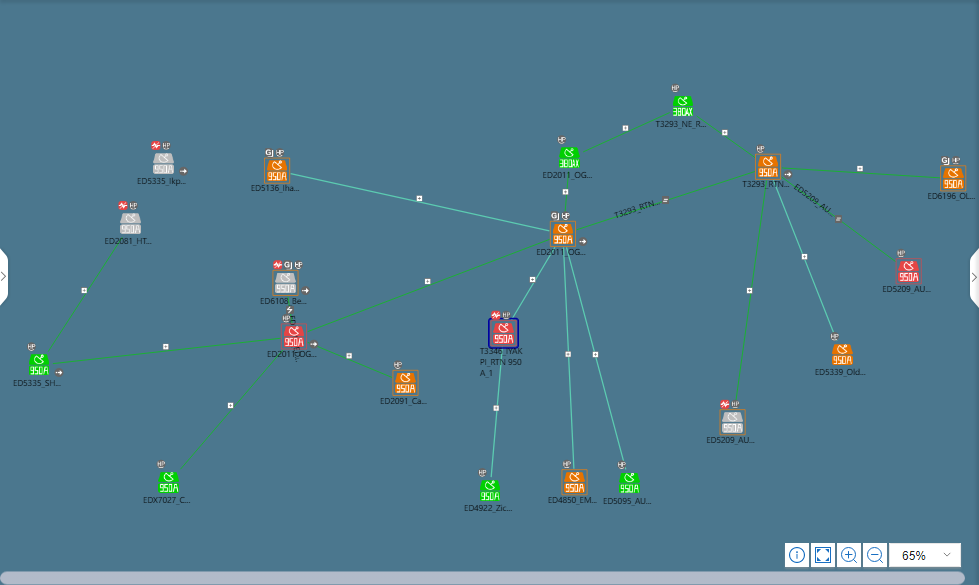Link_Blue: (303, 173, 552, 230), (566, 260, 632, 471), (774, 190, 840, 343), (560, 257, 577, 471), (511, 247, 558, 312), (486, 351, 500, 476)
Link_Green: (309, 240, 537, 328), (181, 351, 280, 464), (578, 167, 753, 230), (780, 173, 892, 263), (731, 179, 772, 404), (46, 240, 118, 355), (52, 338, 252, 364), (309, 338, 390, 378), (584, 112, 664, 150), (820, 167, 944, 184), (702, 118, 753, 156)
RTN_Gray: (150, 155, 179, 178), (272, 271, 301, 294), (719, 412, 748, 433), (119, 216, 142, 239)
RTN_Green: (621, 473, 644, 496), (560, 149, 583, 172), (480, 479, 503, 501), (28, 357, 50, 380), (156, 473, 177, 496), (670, 94, 691, 115)
RTN_Orange: (756, 155, 785, 184), (560, 473, 589, 496), (939, 167, 968, 190), (829, 345, 858, 367), (554, 222, 577, 245), (266, 161, 288, 184), (395, 375, 416, 398)
RTN_Red: (896, 259, 925, 288), (278, 326, 307, 348), (493, 320, 514, 349)
